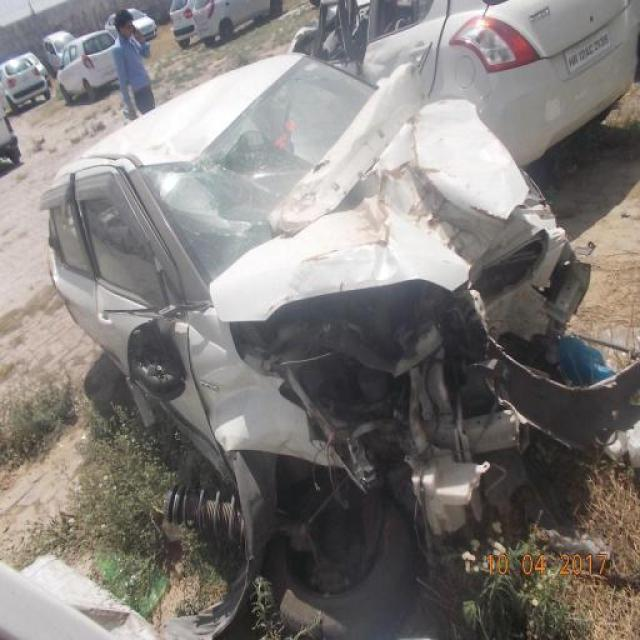crack: (134, 56, 374, 242)
crush: (184, 64, 585, 481)
